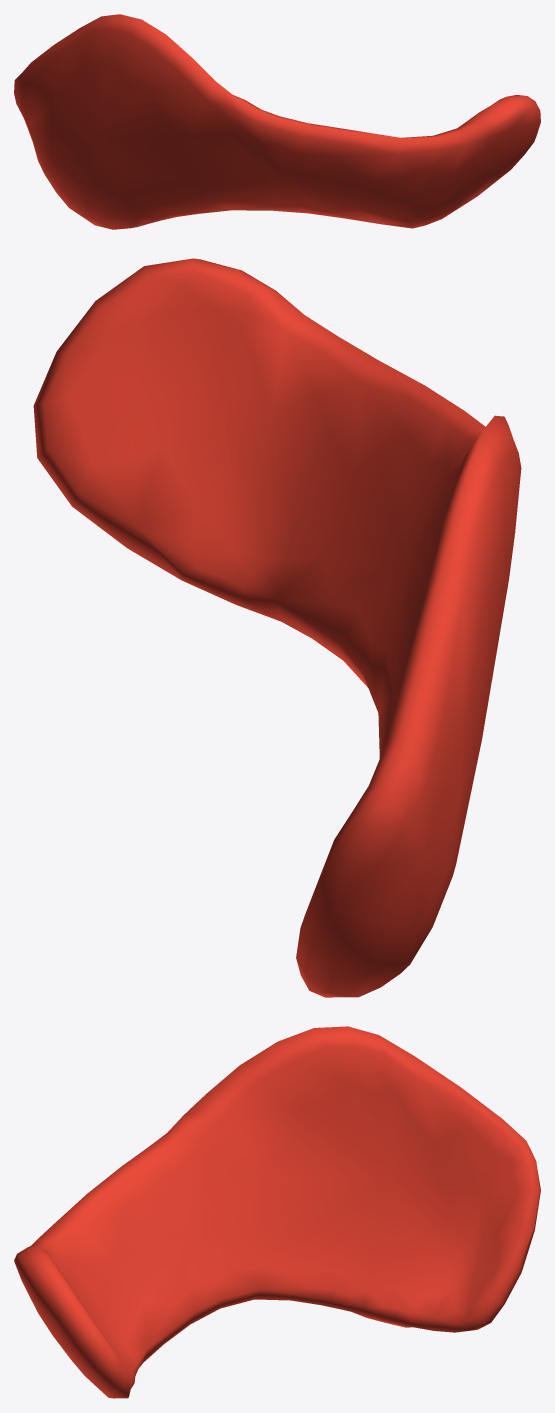
The model's file is Abductor_digiti_minimi-Insertion.l_Generated_Mesh_From_X3D.578.glb.
The picture shows the model from 3 angles, top to bottom: view 1: azimuth 30°, elevation 25°; view 2: azimuth 150°, elevation 25°; view 3: azimuth 270°, elevation 25°; orthographic projection. The views are drawn at different scales.
Parts seen in each view (by area): view 1: Abductor_digiti_minimi-Insertion.l_Generated_Mesh_From_X3D.5; view 2: Abductor_digiti_minimi-Insertion.l_Generated_Mesh_From_X3D.5; view 3: Abductor_digiti_minimi-Insertion.l_Generated_Mesh_From_X3D.5.
Boxes of the visible parts, <box> form: Abductor_digiti_minimi-Insertion.l_Generated_Mesh_From_X3D.5: <box>14,14,540,229</box>; Abductor_digiti_minimi-Insertion.l_Generated_Mesh_From_X3D.5: <box>33,258,521,997</box>; Abductor_digiti_minimi-Insertion.l_Generated_Mesh_From_X3D.5: <box>14,1026,540,1398</box>.
Bounding box in the file's own units: 0.00722 × 0.00474 × 0.00758.
